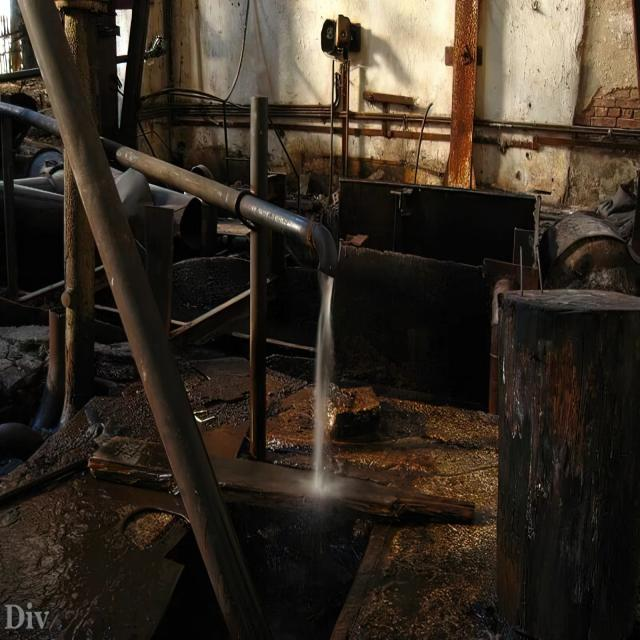leak: (314, 270, 334, 488)
